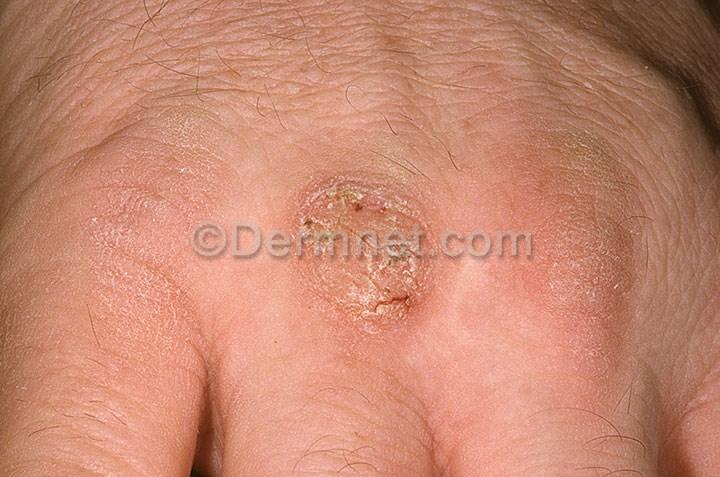Eczema: (536, 134, 661, 317), (104, 86, 237, 218), (80, 224, 200, 363), (314, 263, 428, 363), (306, 155, 413, 228)
